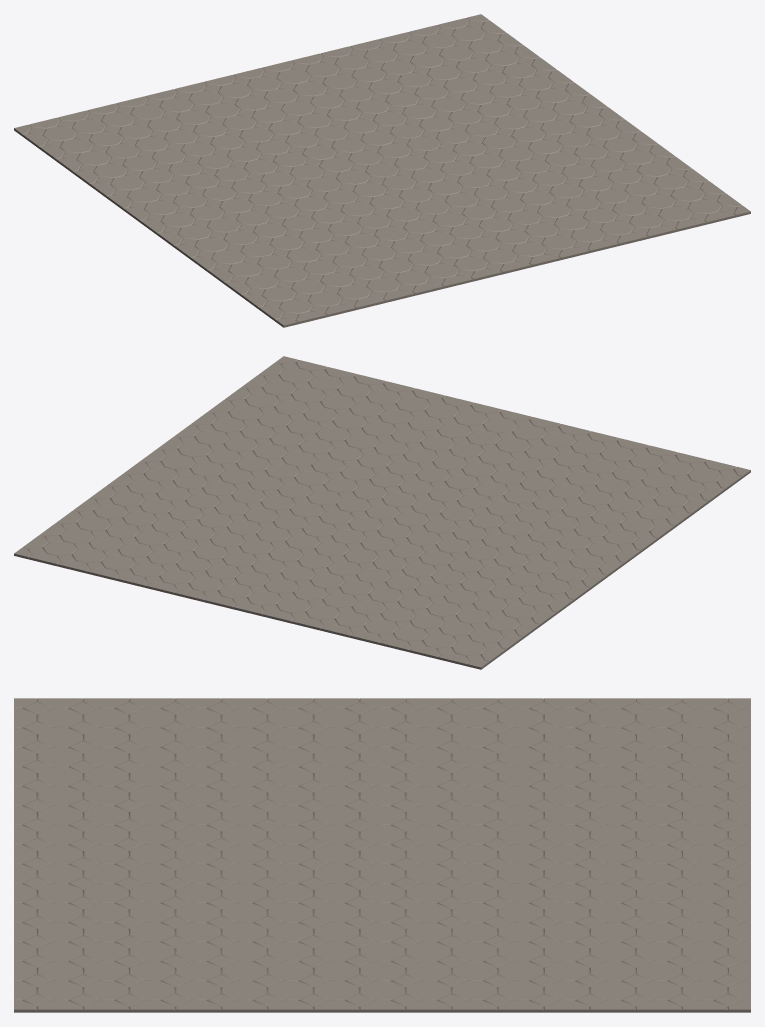
The model's file is floor_tile_rock.glb.
3 views of the same model, one above another, from view 1: azimuth 30°, elevation 25°; view 2: azimuth 150°, elevation 25°; view 3: azimuth 270°, elevation 25° (orthographic). The views are drawn at different scales.
Visible parts, largest first — view 1: floor_tile_large.002; view 2: floor_tile_large.002; view 3: floor_tile_large.002.
Boxes of the visible parts, x1,y1,x2,y2 form: floor_tile_large.002: (14,14,750,327); floor_tile_large.002: (14,356,750,669); floor_tile_large.002: (14,698,750,1012).
Bounding box in the file's own units: 32 × 0.15 × 32.
1 material, 1 textured.
